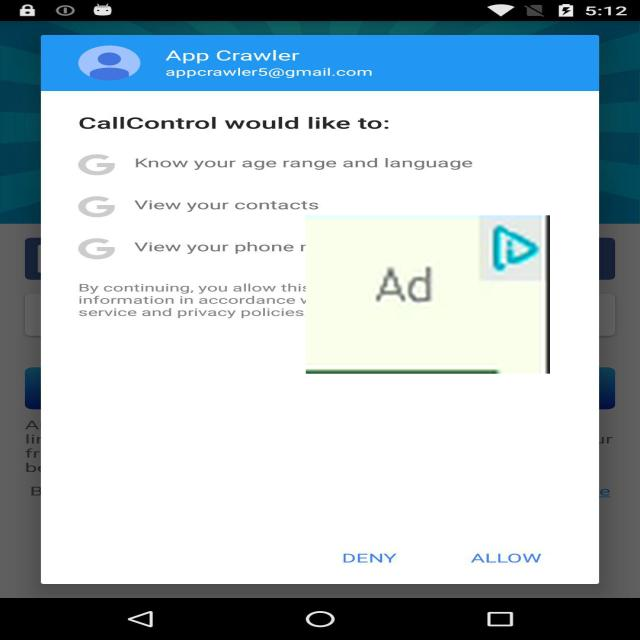sneaking: (306, 215, 550, 374)
